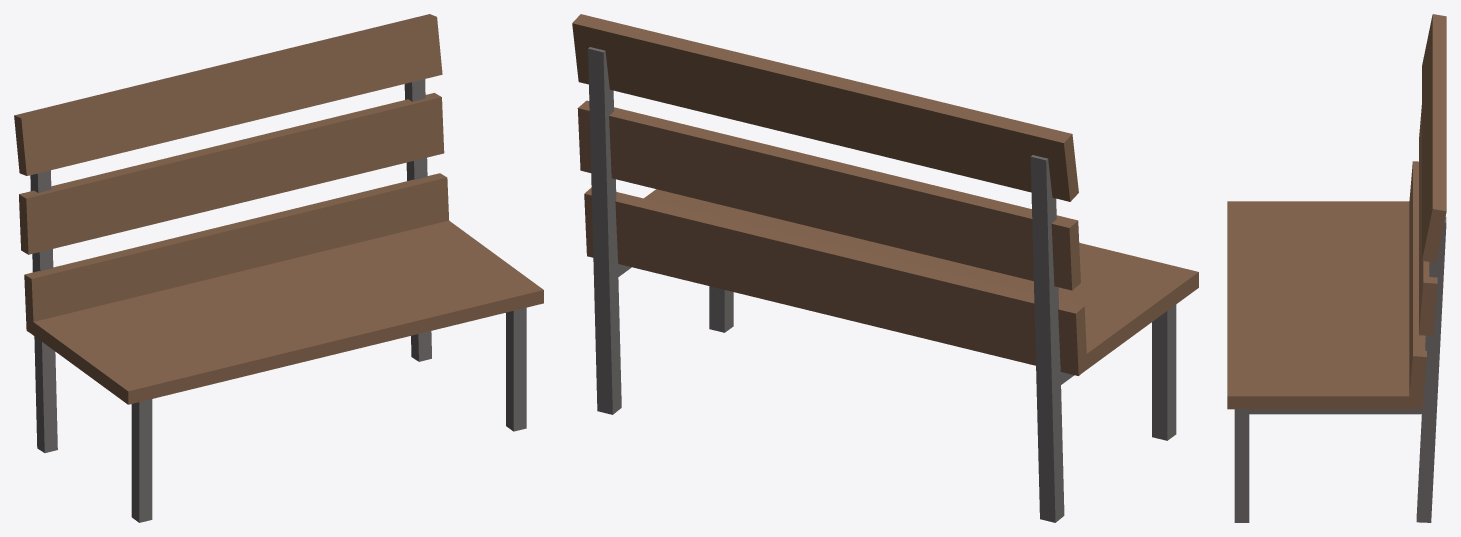
Rendered from Halloween_bench.fbx.
3 views of the same model, side by side, from view 1: azimuth 30°, elevation 25°; view 2: azimuth 150°, elevation 25°; view 3: azimuth 270°, elevation 25° (orthographic). The views are drawn at different scales.
Visible parts, largest first — view 1: Bench; view 2: Bench; view 3: Bench.
Boxes of the visible parts, x1,y1,x2,y2 form: Bench: [14, 14, 543, 522]; Bench: [572, 14, 1198, 522]; Bench: [1227, 14, 1446, 522].
Bounding box in the file's own units: 602 × 461 × 286.
